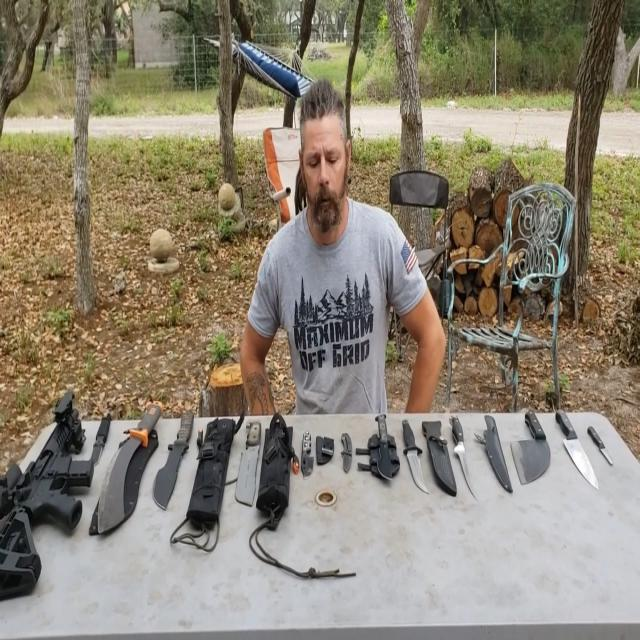knife: (92, 375, 162, 552), (552, 405, 609, 505), (234, 399, 282, 516), (512, 384, 554, 496), (444, 402, 490, 503), (151, 408, 198, 502), (291, 403, 326, 510), (396, 406, 425, 495), (375, 408, 402, 496), (584, 418, 626, 470), (328, 414, 359, 482), (92, 402, 115, 482)
long weapon: (0, 376, 89, 604)
